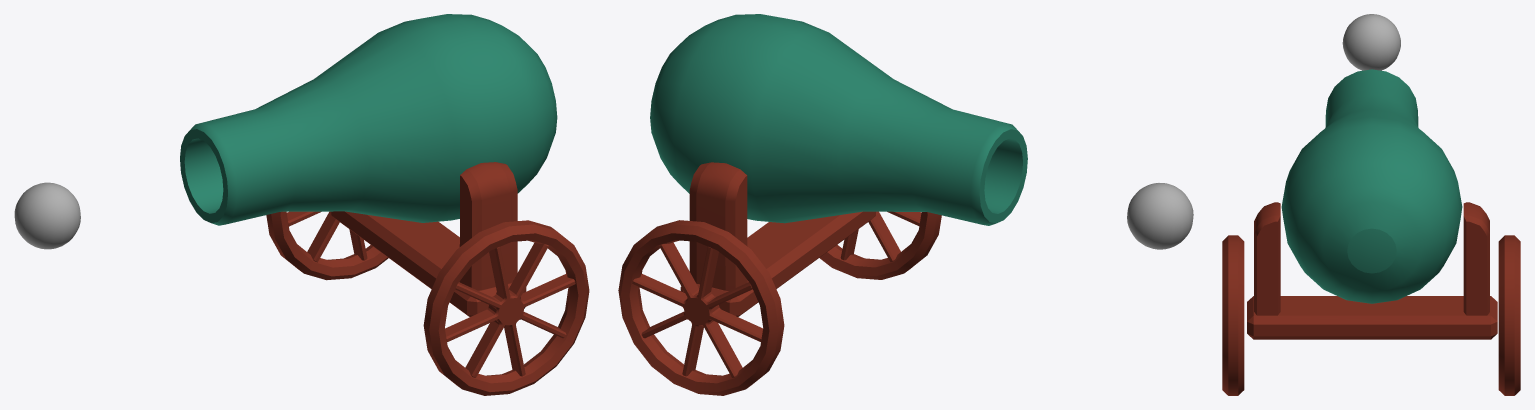
File: canon(Untextured).fbx
3 renders of one model, left to right at view 1: azimuth 30°, elevation 25°; view 2: azimuth 150°, elevation 25°; view 3: azimuth 270°, elevation 25°, orthographic. The views are drawn at different scales.
Parts seen in each view (by area): view 1: pCylinder1, pTorus2, pCylinder3, pCube1, pCube3, pSphere1, pTorus1, pCylinder2; view 2: pCylinder1, pTorus1, pCylinder2, pCube1, pCube2, pSphere1, pTorus2, pCylinder3; view 3: pCylinder1, pCube1, pTorus1, pTorus2, pCube2, pCube3, pSphere1.
Part boxes in pixels (x1,y1,x2,y2): pCylinder1: [180, 14, 557, 225]; pTorus2: [423, 220, 589, 395]; pCylinder3: [445, 242, 575, 377]; pCube1: [331, 211, 526, 316]; pCube3: [459, 162, 517, 290]; pSphere1: [14, 182, 80, 249]; pTorus1: [266, 211, 388, 280]; pCylinder2: [287, 211, 367, 262]; pCylinder1: [650, 14, 1027, 225]; pTorus1: [618, 220, 784, 395]; pCylinder2: [632, 242, 762, 377]; pCube1: [680, 211, 875, 316]; pCube2: [689, 162, 747, 290]; pSphere1: [1127, 183, 1193, 249]; pTorus2: [819, 212, 941, 279]; pCylinder3: [840, 211, 921, 261]; pCylinder1: [1281, 69, 1462, 303]; pCube1: [1247, 296, 1497, 339]; pTorus1: [1498, 235, 1520, 395]; pTorus2: [1222, 235, 1244, 395]; pCube2: [1463, 202, 1489, 315]; pCube3: [1254, 202, 1280, 315]; pSphere1: [1342, 14, 1400, 70].
Size of the model in its own units: 11.56 by 6.45 by 6.52.
